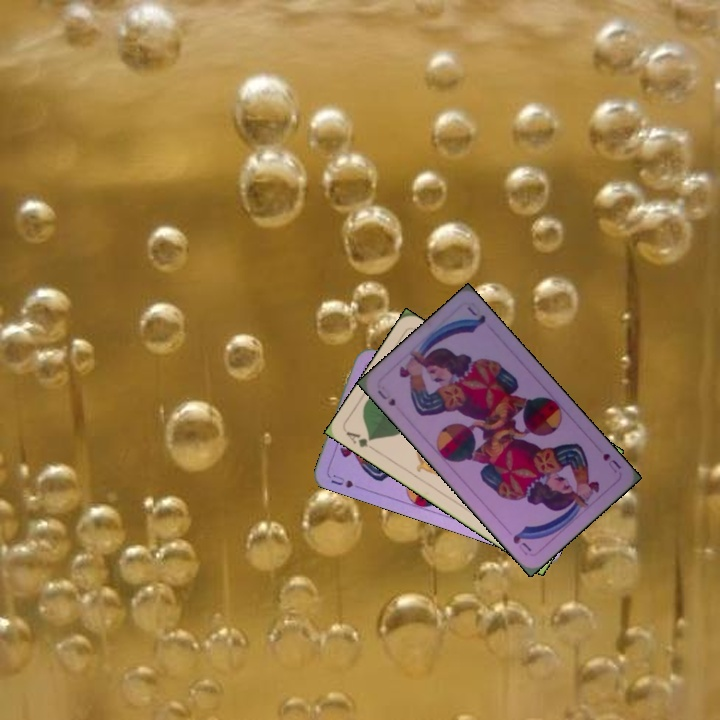GA: (342, 427, 378, 454)
SU: (598, 449, 624, 476), (327, 470, 358, 491), (373, 386, 398, 410)
